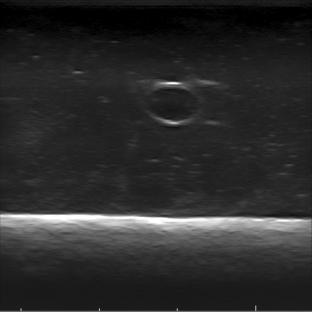vessel: (143, 80, 201, 125)
